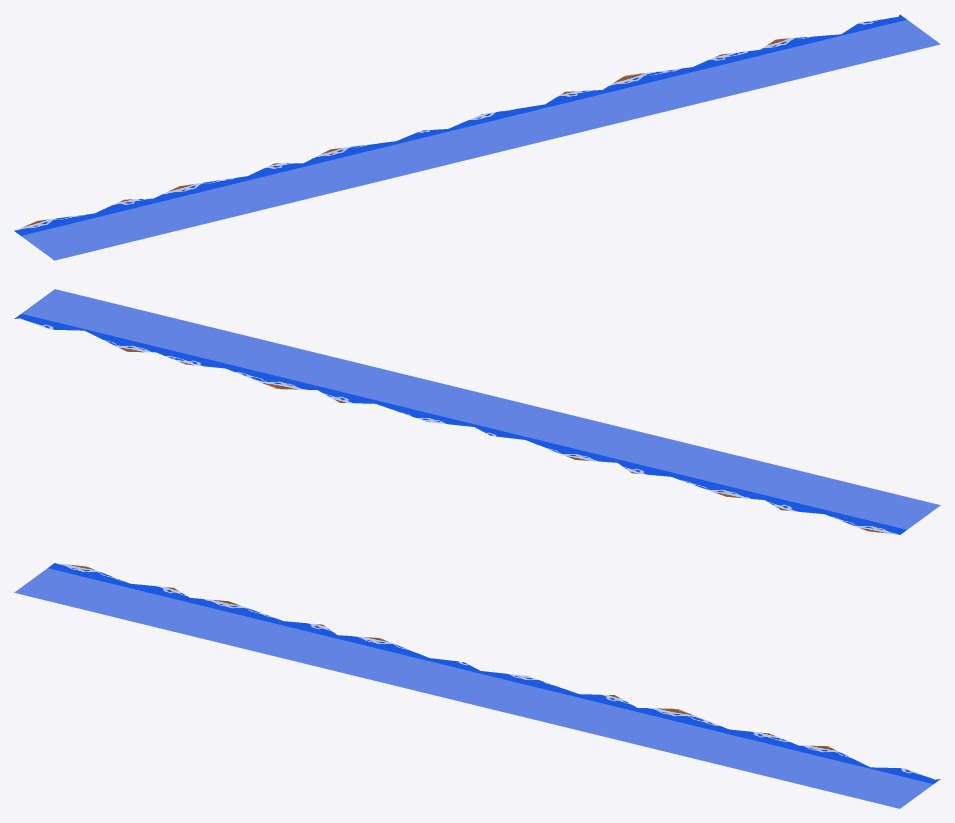
Rendered from WaterFoam.FBX.
3 views of the same model, one above another, from view 1: azimuth 30°, elevation 25°; view 2: azimuth 150°, elevation 25°; view 3: azimuth 330°, elevation 25° (orthographic).
Visible parts, largest first — view 1: Object001; view 2: Object001; view 3: Object001.
Part boxes in pixels (<box>): Object001: <box>14,14,940,260</box>; Object001: <box>14,289,940,534</box>; Object001: <box>14,563,940,808</box>.
Size of the model in its own units: 1434 by 3.73e-14 by 132.
Materials: 1 (1 with a texture image).
